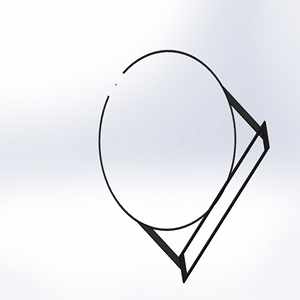circle: (97, 48, 271, 284)
